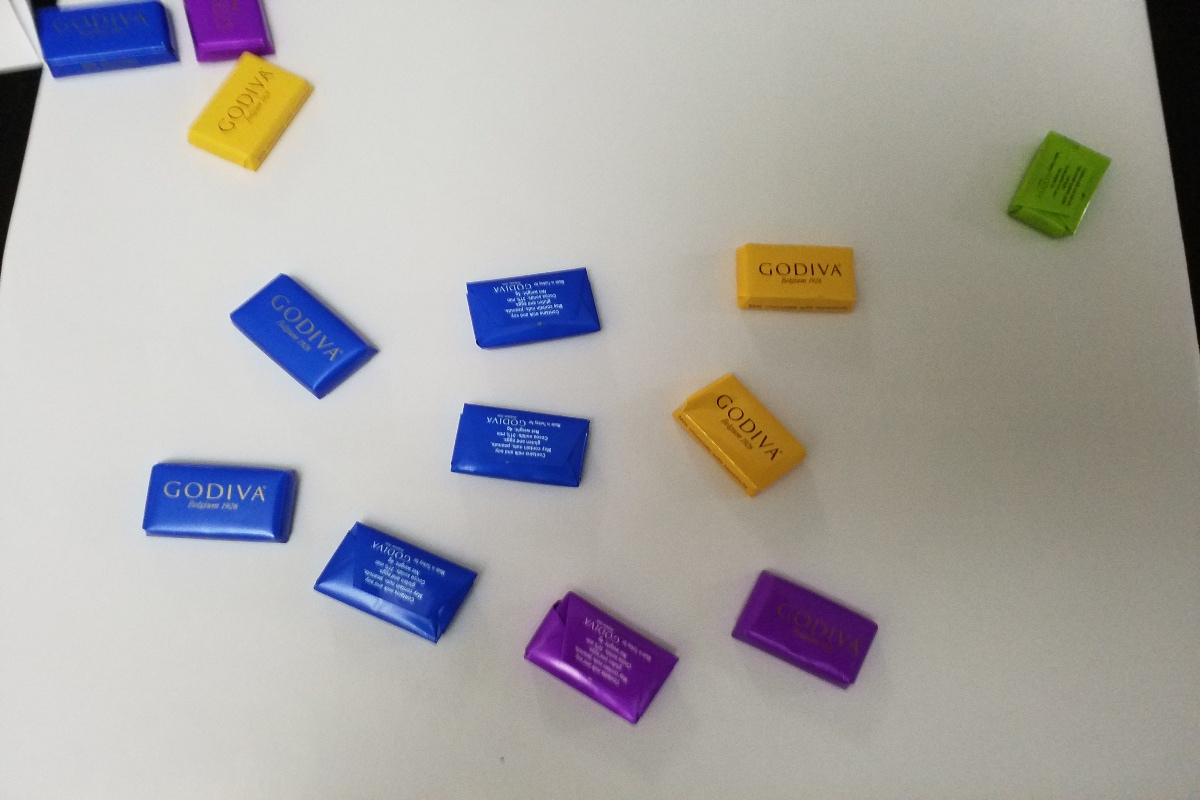chocolate_blue: (312, 511, 488, 655), (213, 267, 390, 408), (133, 455, 306, 555), (441, 398, 599, 500), (446, 260, 609, 358)
chocolate_green: (984, 112, 1113, 255)
chocolate_purple: (719, 556, 895, 700), (523, 583, 689, 735)
chocolate_yellow: (661, 360, 808, 508), (722, 237, 864, 320)
